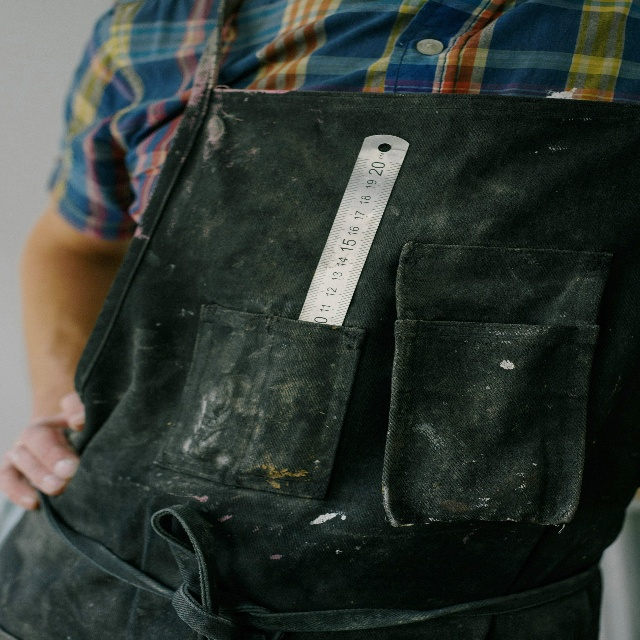Sin_guantes: (0, 390, 84, 508)
